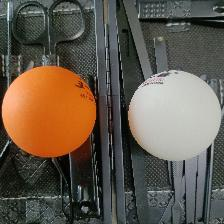WhiteBall: (127, 69, 221, 161)
YellowBall: (1, 65, 96, 157)
